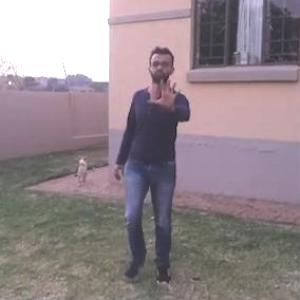follow_hand: (144, 72, 184, 113)
